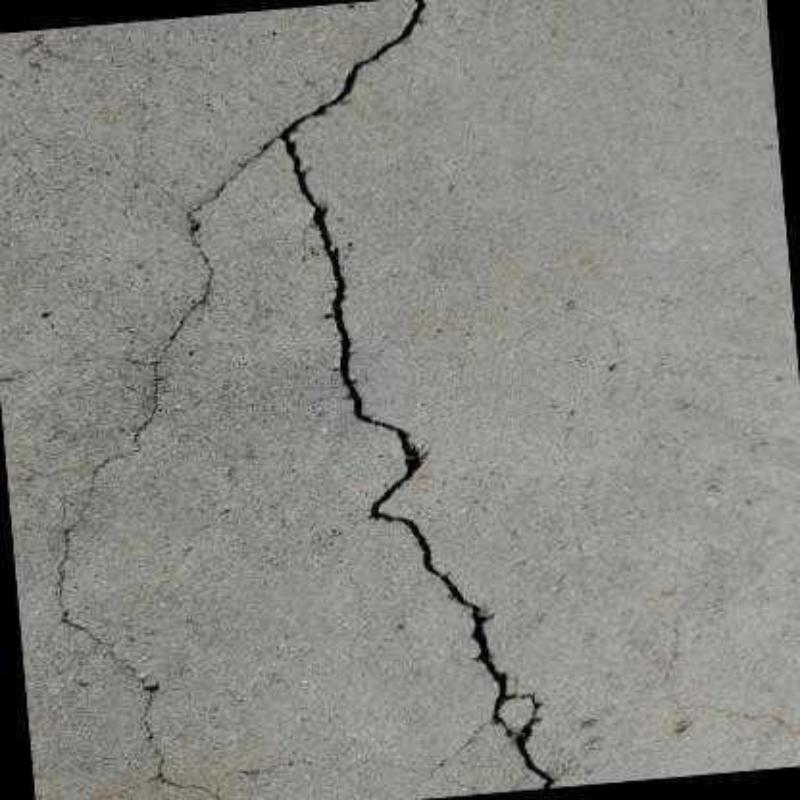crack: (275, 0, 555, 789), (52, 134, 272, 800)
